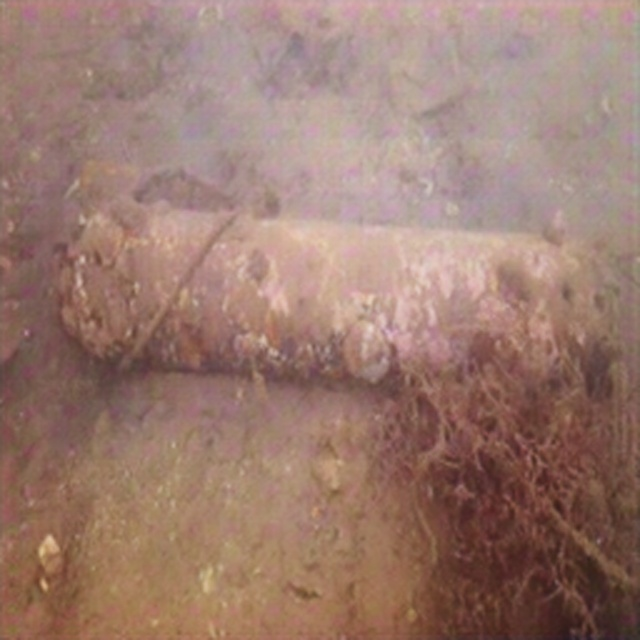mine: (57, 204, 627, 385)
